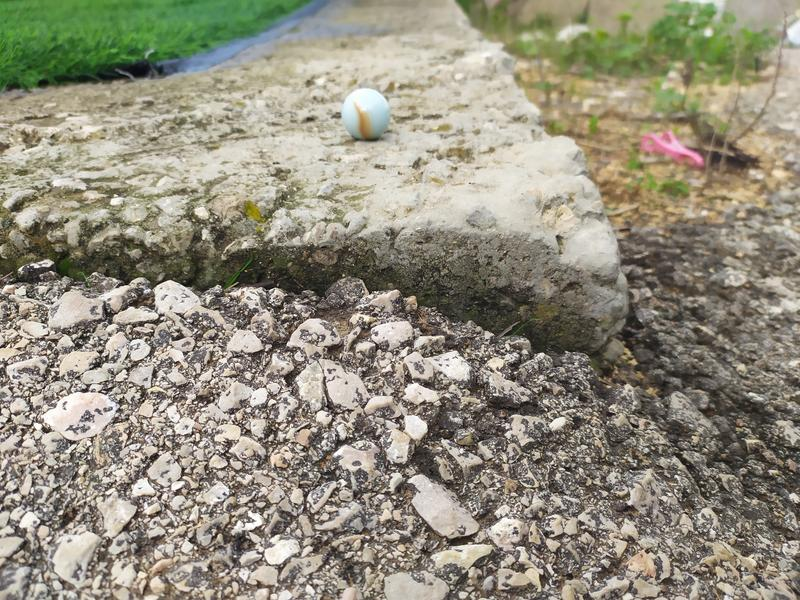Warning: (340, 86, 393, 143)
